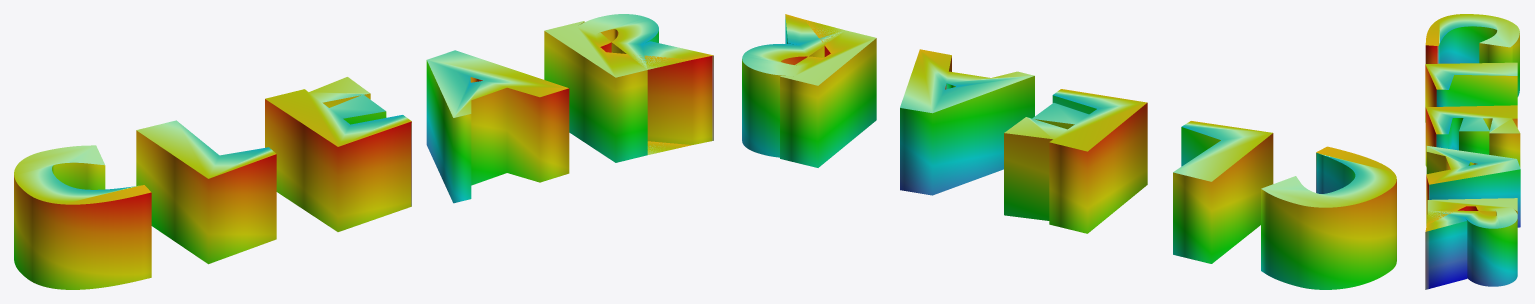
File: clear.obj
3 renders of one model, left to right at view 1: azimuth 30°, elevation 25°; view 2: azimuth 150°, elevation 25°; view 3: azimuth 270°, elevation 25°, orthographic. The views are drawn at different scales.
Parts seen in each view (by area): view 1: テキスト; view 2: テキスト; view 3: テキスト.
Part boxes in pixels (x1,y1,x2,y2): テキスト: (14, 14, 713, 289); テキスト: (742, 14, 1396, 289); テキスト: (1425, 14, 1520, 289).
Bounding box in the file's own units: 4.02 × 0.5 × 0.7456.
1 material, 1 textured.
